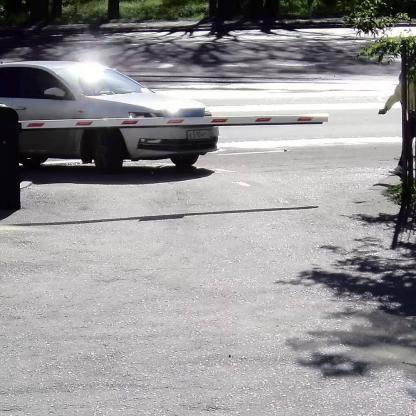plate: (187, 129, 213, 139)
